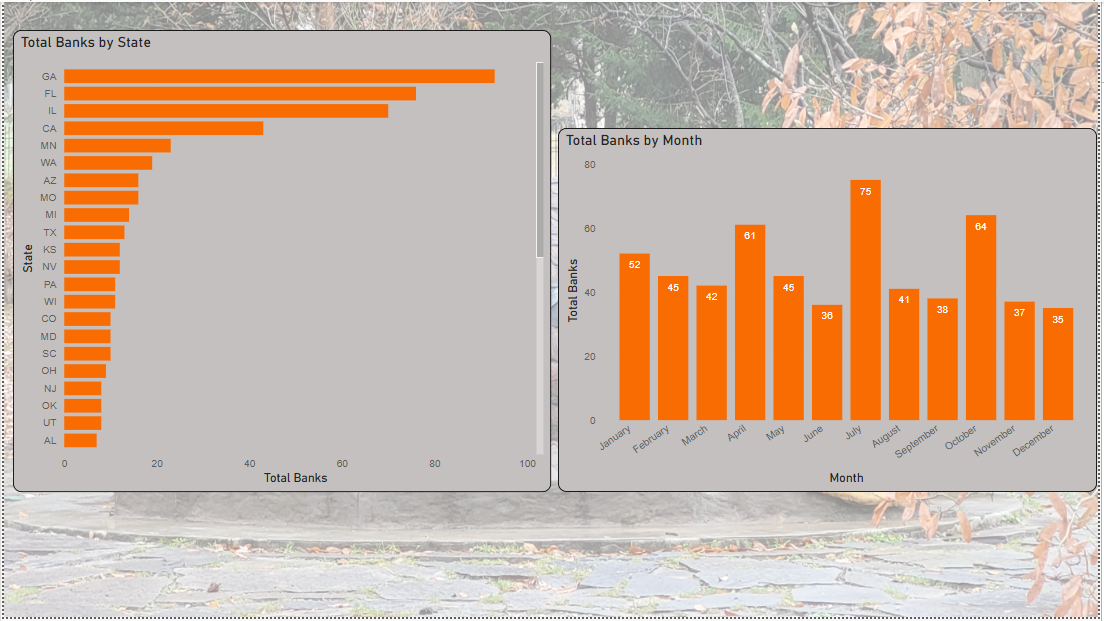

This screenshot's page, from the dashboard's own definition file:
{"tool":"powerbi","page":{"name":"Report Summary","canvas":[1280,720],"ordinal":0},"visuals":[{"type":"barChart","fields":{"Category":["Failed Banks.State�"],"Y":["CountNonNull(Failed Banks.Bank Name�)"]},"box":[10.5,32.8,629.9,540.9],"z":0},{"type":"columnChart","fields":{"Category":["Calendar.Month"],"Y":["Failed Banks.Total Banks"]},"box":[648.6,147.5,631,426.1],"z":1}]}

Visuals, with their boxes in screenshot pixels (x1, y1, x2, y2), scaled from the page's 1280x720 canvas onto the 1104x621 screenshot:
barChart - Failed Banks.State� x CountNonNull(Failed Banks.Bank Name�): left=9, top=28, right=552, bottom=495
columnChart - Calendar.Month x Failed Banks.Total Banks: left=559, top=127, right=1103, bottom=495
